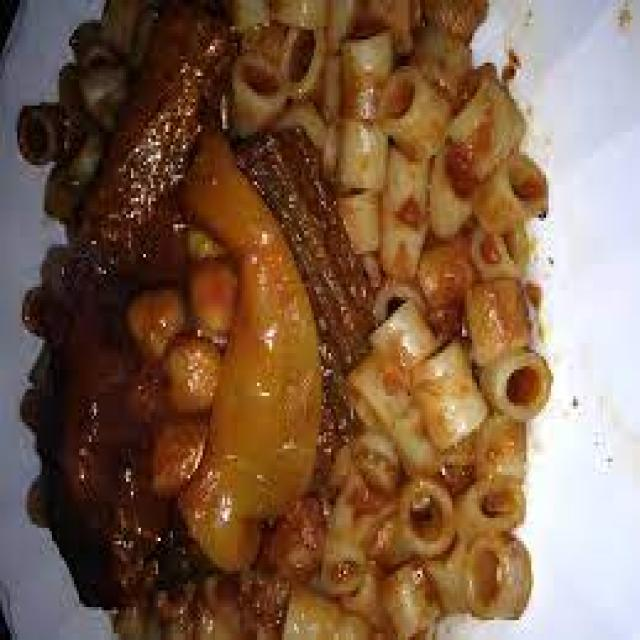Pasta: (33, 10, 586, 607)
